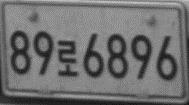6: (153, 34, 178, 80), (81, 32, 104, 78)
8: (106, 33, 129, 79), (9, 30, 31, 75)
9: (129, 33, 152, 81), (32, 31, 54, 76)
로: (55, 38, 79, 78)
